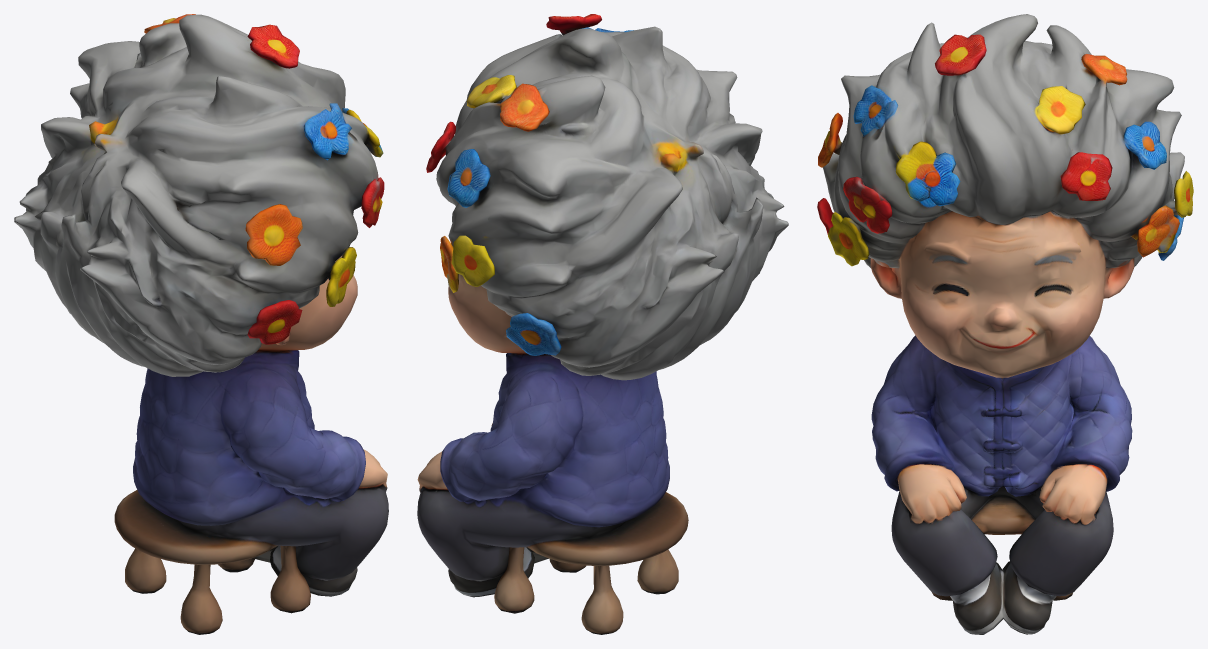
File: liulaolao.glb
The picture shows the model from 3 angles, left to right: view 1: azimuth 30°, elevation 25°; view 2: azimuth 150°, elevation 25°; view 3: azimuth 270°, elevation 25°; orthographic projection. The views are drawn at different scales.
Visible parts, largest first — view 1: tripo_node_ed993e93-1e8a-4769-bdf1-d83054d64ef4; view 2: tripo_node_ed993e93-1e8a-4769-bdf1-d83054d64ef4; view 3: tripo_node_ed993e93-1e8a-4769-bdf1-d83054d64ef4.
Boxes of the visible parts, x1,y1,x2,y2 form: tripo_node_ed993e93-1e8a-4769-bdf1-d83054d64ef4: (14, 14, 388, 634); tripo_node_ed993e93-1e8a-4769-bdf1-d83054d64ef4: (417, 14, 788, 634); tripo_node_ed993e93-1e8a-4769-bdf1-d83054d64ef4: (817, 14, 1193, 634).
Size of the model in its own units: 0.5358 by 0.9996 by 0.6088.
Materials: 1 (1 with a texture image).
